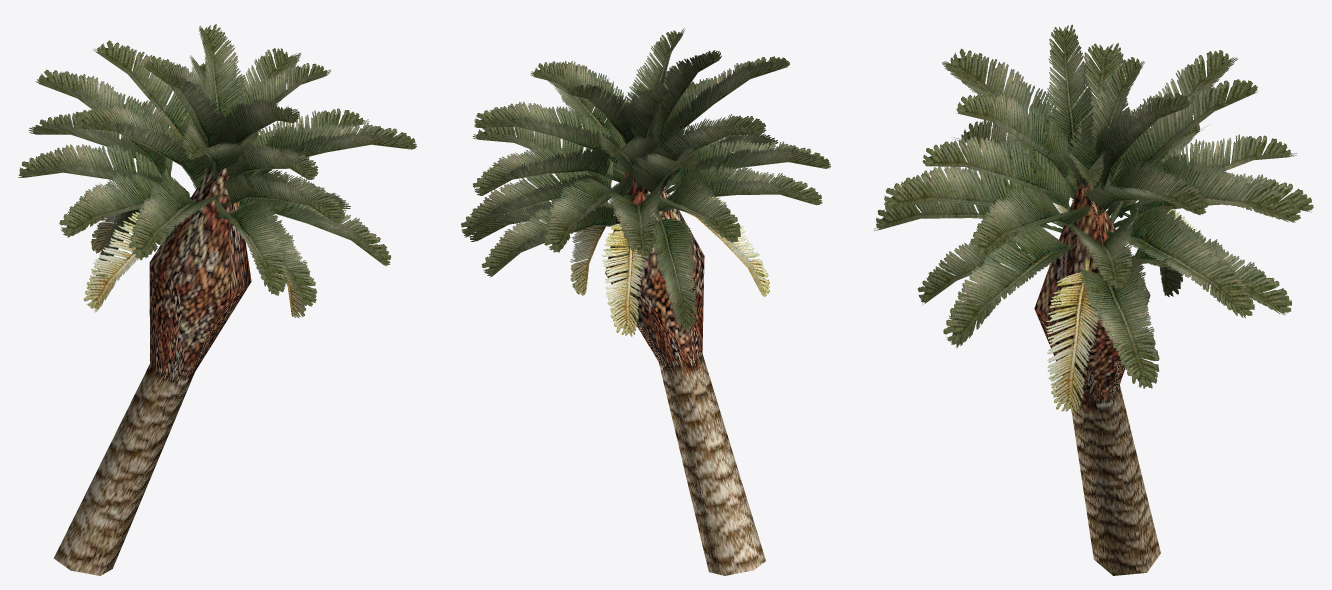
The model's file is flora_tree_cretan_date_palm_short_v3.glb.
3 views of the same model, side by side, from view 1: azimuth 30°, elevation 25°; view 2: azimuth 150°, elevation 25°; view 3: azimuth 270°, elevation 25° (orthographic). The views are drawn at different scales.
Parts seen in each view (by area): view 1: flora_tree_cretan_date_palm_short_v3_part0; view 2: flora_tree_cretan_date_palm_short_v3_part0; view 3: flora_tree_cretan_date_palm_short_v3_part0.
Part boxes in pixels (x1,y1,x2,y2): flora_tree_cretan_date_palm_short_v3_part0: [18, 24, 416, 575]; flora_tree_cretan_date_palm_short_v3_part0: [461, 28, 830, 575]; flora_tree_cretan_date_palm_short_v3_part0: [874, 24, 1313, 575].
Size of the model in its own units: 7.7 by 11.36 by 8.04.
1 material, 1 textured.
